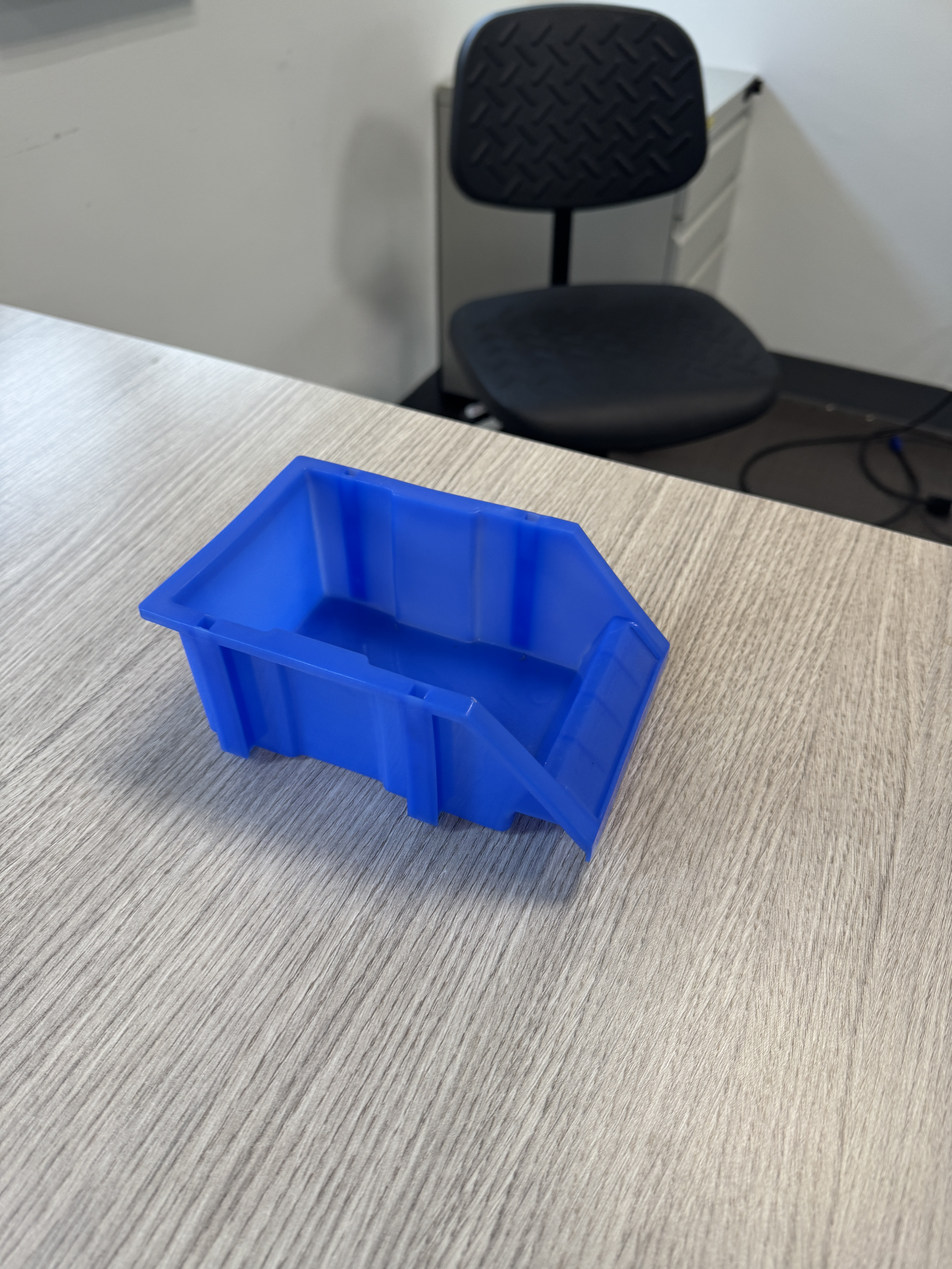Bin Boundary: (178, 404, 640, 770)
